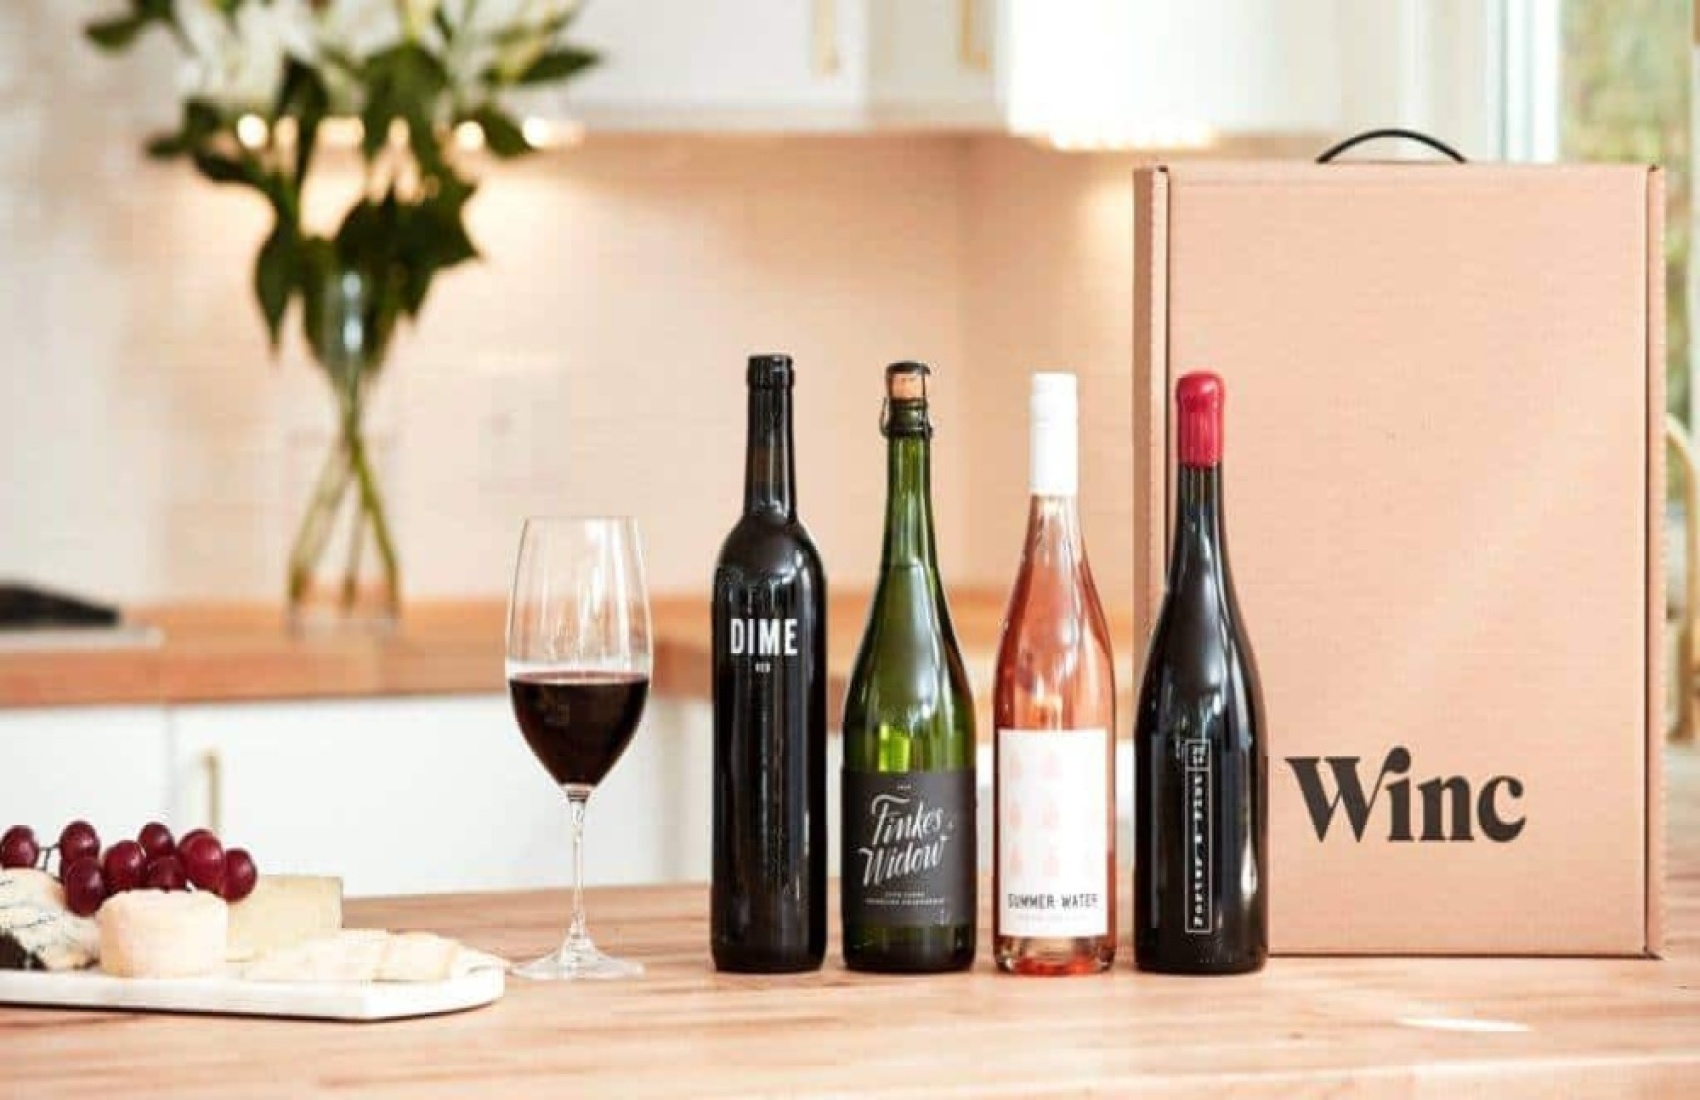wine: (704, 356, 828, 971), (1137, 349, 1261, 965), (848, 364, 971, 980), (994, 356, 1118, 971)
